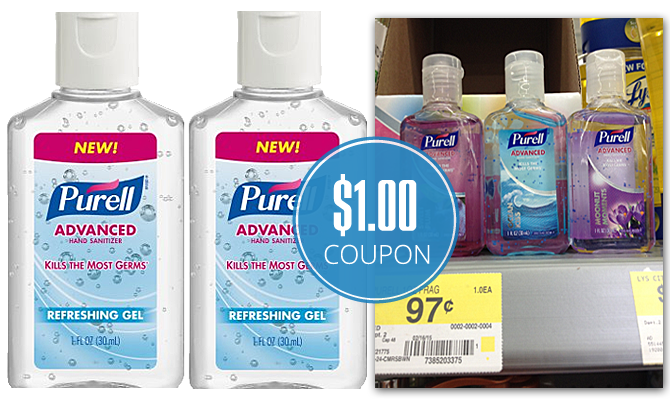Sanitizer: (3, 4, 190, 395), (185, 2, 371, 393), (563, 40, 662, 263), (394, 49, 487, 267), (482, 44, 570, 262)
